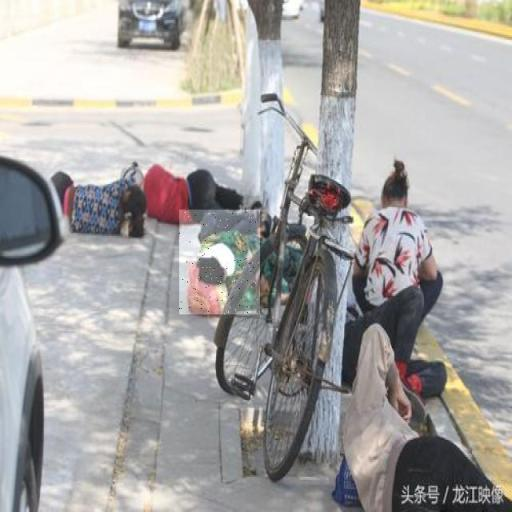Fall: (179, 210, 260, 315)
